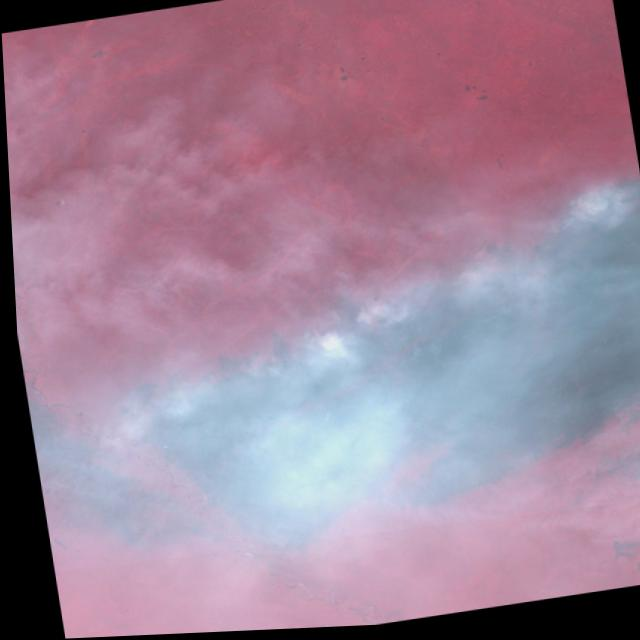fire: (84, 177, 640, 440)
